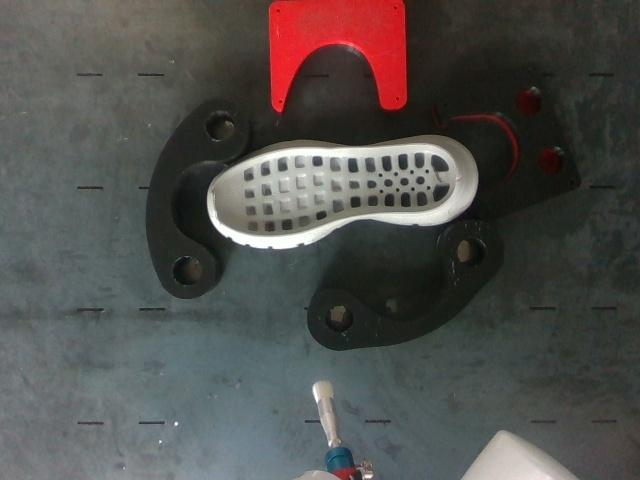shoes: (213, 143, 458, 237)
